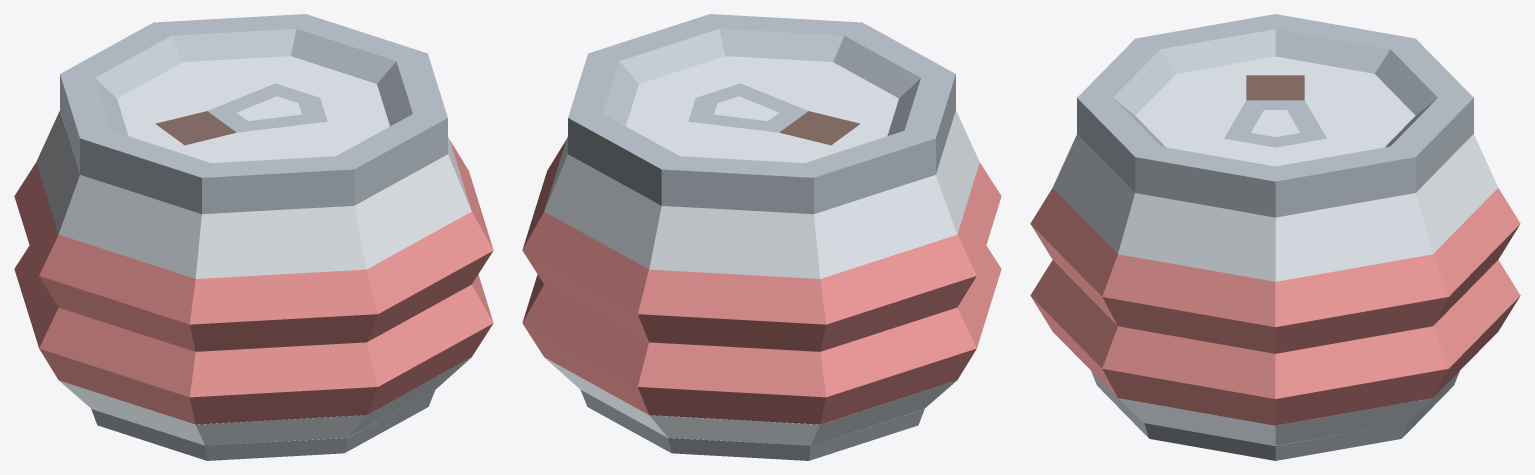
The picture shows the model from 3 angles, left to right: view 1: azimuth 30°, elevation 25°; view 2: azimuth 150°, elevation 25°; view 3: azimuth 270°, elevation 25°; orthographic projection.
Parts seen in each view (by area): view 1: sodaCanCrushed; view 2: sodaCanCrushed; view 3: sodaCanCrushed.
Part boxes in pixels (x1,y1,x2,y2): sodaCanCrushed: [14, 14, 493, 460]; sodaCanCrushed: [522, 14, 1001, 460]; sodaCanCrushed: [1030, 14, 1520, 460].
Bounding box in the file's own units: 0.2471 × 0.16 × 0.2471.
